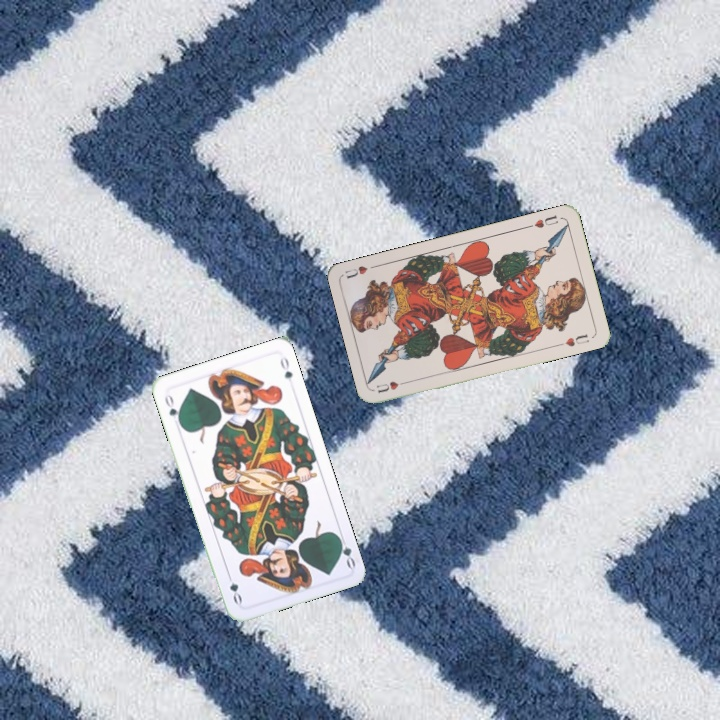GO: (334, 530, 358, 571), (160, 390, 184, 428)
HU: (373, 377, 412, 396), (524, 211, 561, 231)
